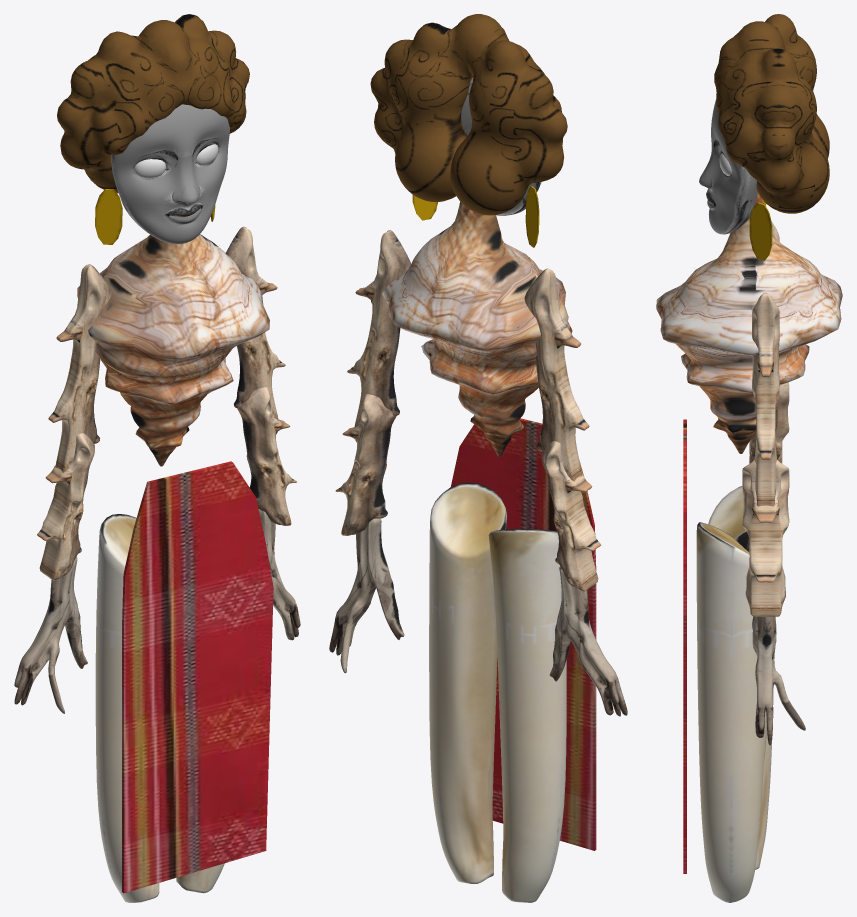
File: Adult_Babae (1).fbx
The picture shows the model from 3 angles, left to right: view 1: azimuth 30°, elevation 25°; view 2: azimuth 150°, elevation 25°; view 3: azimuth 270°, elevation 25°; orthographic projection. The views are drawn at different scales.
Visible parts, largest first — view 1: Skirt, Shell.001, Hair.001, Adult Babae.001, Tooth1.012, Branch4.003, Branch4.004, Branch4.006, Branch1.002, Branch4.005, Branch1.001, Earring.001 (+1 smaller); view 2: Hair.001, Tooth1.013, Tooth1.012, Shell.001, Skirt, Branch4.003, Branch4.005, Branch4.006, Branch4.004, Branch1.001, Branch1.002, Earring.001 (+1 smaller); view 3: Tooth1.013, Shell.001, Hair.001, Branch4.006, Branch4.005, Adult Babae.001, Branch1.001, Tooth1.012, Skirt, Earring, Branch4.004.
Boxes of the visible parts, bbox=[...] form: Skirt: bbox=[122, 461, 273, 893]; Shell.001: bbox=[77, 215, 269, 466]; Hair.001: bbox=[57, 14, 249, 193]; Adult Babae.001: bbox=[111, 104, 229, 244]; Tooth1.012: bbox=[95, 514, 159, 902]; Branch4.003: bbox=[48, 264, 111, 472]; Branch4.004: bbox=[37, 433, 94, 580]; Branch4.006: bbox=[237, 387, 296, 525]; Branch1.002: bbox=[14, 556, 87, 713]; Branch4.005: bbox=[226, 226, 285, 420]; Branch1.001: bbox=[258, 509, 300, 640]; Earring.001: bbox=[95, 189, 122, 244]; Hair.001: bbox=[370, 14, 567, 215]; Tooth1.013: bbox=[429, 482, 507, 883]; Tooth1.012: bbox=[488, 529, 566, 902]; Shell.001: bbox=[382, 201, 572, 456]; Skirt: bbox=[451, 418, 596, 850]; Branch4.003: bbox=[524, 268, 589, 481]; Branch4.005: bbox=[347, 230, 410, 427]; Branch4.006: bbox=[335, 394, 396, 535]; Branch4.004: bbox=[541, 441, 600, 591]; Branch1.001: bbox=[329, 518, 404, 673]; Branch1.002: bbox=[549, 566, 627, 716]; Earring.001: bbox=[525, 186, 539, 247]; Tooth1.013: bbox=[696, 522, 766, 902]; Shell.001: bbox=[656, 193, 842, 453]; Hair.001: bbox=[714, 14, 829, 213]; Branch4.006: bbox=[742, 459, 789, 616]; Branch4.005: bbox=[752, 292, 779, 506]; Adult Babae.001: bbox=[699, 100, 757, 234]; Branch1.001: bbox=[752, 616, 805, 745]; Tooth1.012: bbox=[708, 486, 773, 869]; Skirt: bbox=[683, 419, 686, 873]; Earring: bbox=[749, 202, 772, 260]; Branch4.004: bbox=[749, 382, 789, 463].
Bounding box in the file's own units: 118 × 339 × 66.39.
Materials: 8 (8 with a texture image).
